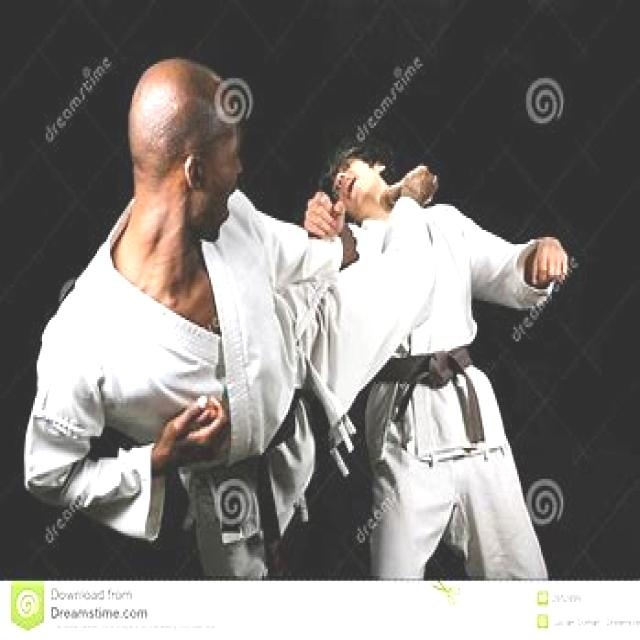fight: (55, 42, 573, 513)
